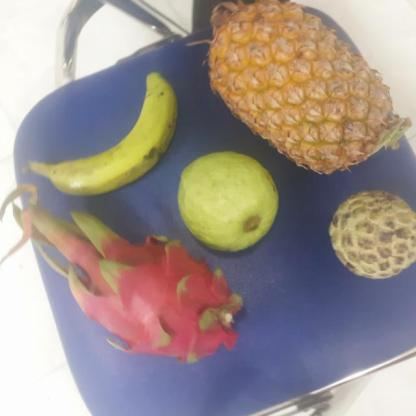annona: (326, 191, 416, 279)
guava: (173, 153, 279, 253)
pineapple: (204, 0, 395, 172)
pitaya: (73, 231, 240, 364)
